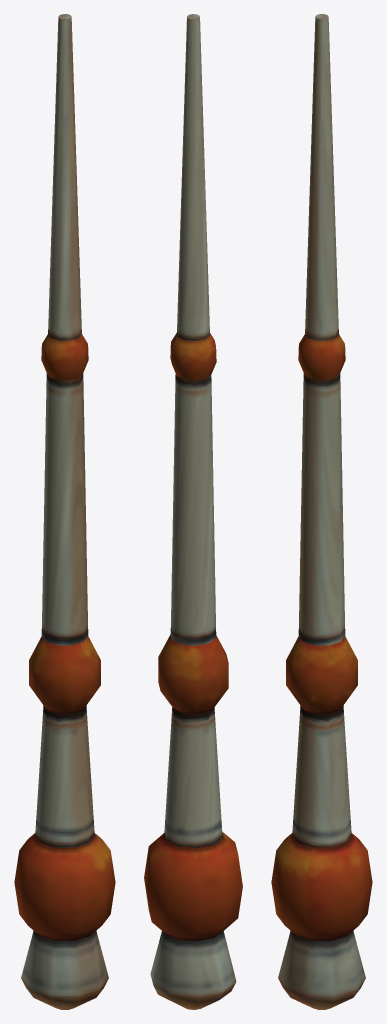
The model's file is SM_Wand.fbx.
3 views of the same model, side by side, from view 1: azimuth 90°, elevation 25°; view 2: azimuth 150°, elevation 25°; view 3: azimuth 270°, elevation 25° (orthographic).
Visible parts, largest first — view 1: SM_Wand_LOD0; view 2: SM_Wand_LOD0; view 3: SM_Wand_LOD0.
Boxes of the visible parts, x1,y1,x2,y2 form: SM_Wand_LOD0: (14, 14, 115, 1009); SM_Wand_LOD0: (144, 14, 242, 1009); SM_Wand_LOD0: (271, 14, 372, 1009).
Bounding box in the file's own units: 3.95 × 4.15 × 44.74.
Materials: 1 (1 with a texture image).
